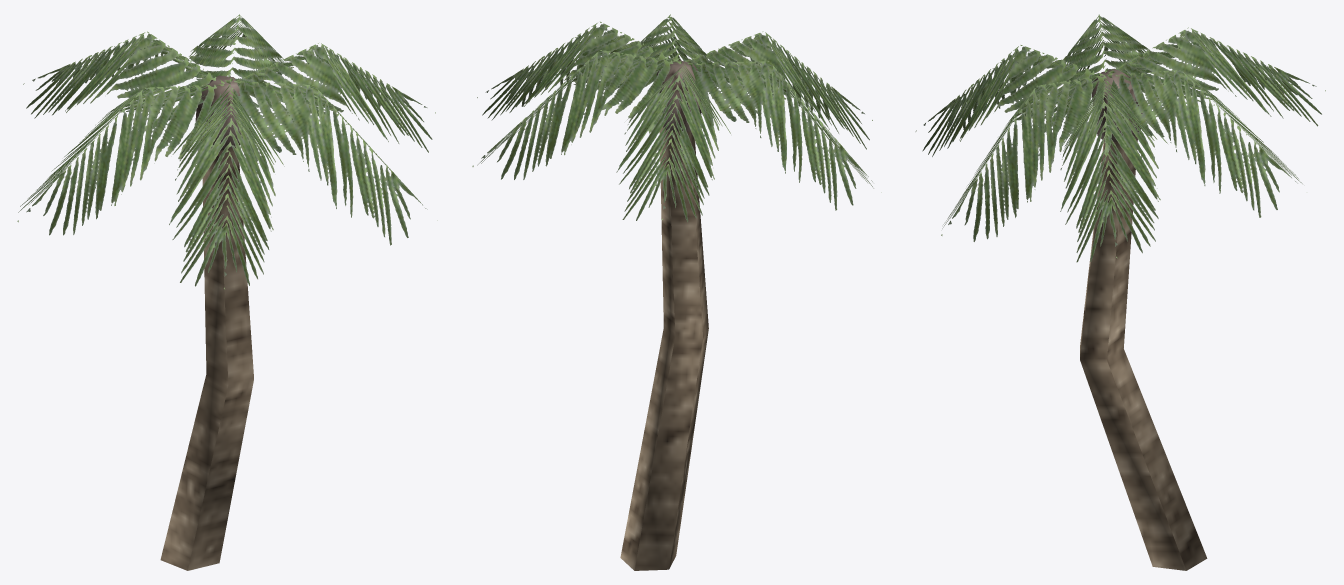
Rendered from palm_1.obj.
3 renders of one model, left to right at view 1: azimuth 30°, elevation 25°; view 2: azimuth 150°, elevation 25°; view 3: azimuth 270°, elevation 25°, orthographic. The views are drawn at different scales.
Parts seen in each view (by area): view 1: palm_1; view 2: palm_1; view 3: palm_1.
Part boxes in pixels (x1=…): palm_1: x1=17, y1=14, x2=437, y2=570; palm_1: x1=472, y1=14, x2=881, y2=570; palm_1: x1=915, y1=14, x2=1325, y2=570.
Size of the model in its own units: 4.4 by 5.19 by 3.81.
